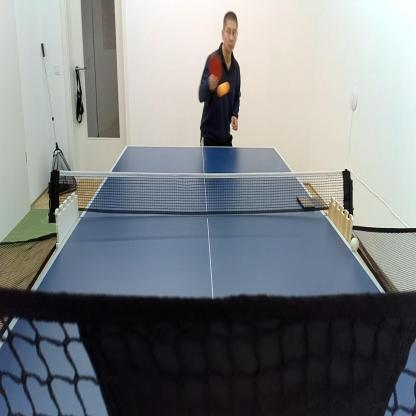Ball: (217, 81, 231, 98), (350, 234, 360, 254)
